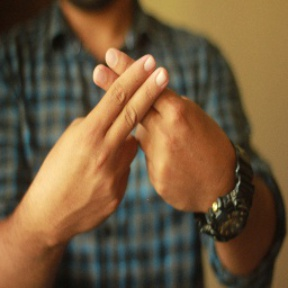F: (54, 36, 208, 184)
